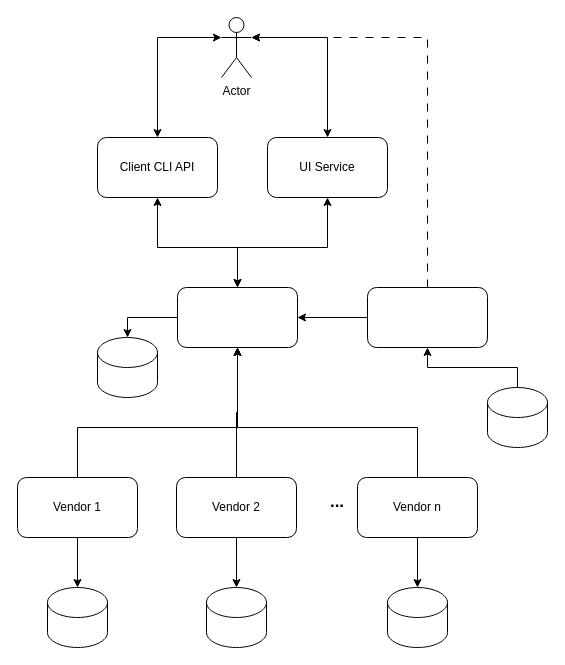
This 565x665 diagram has some shape labels left out. Here are the shapes that lost their labels. From the top down, the centre of each, then its label:
the point at 237,317: Broker
the point at 427,317: Content service
